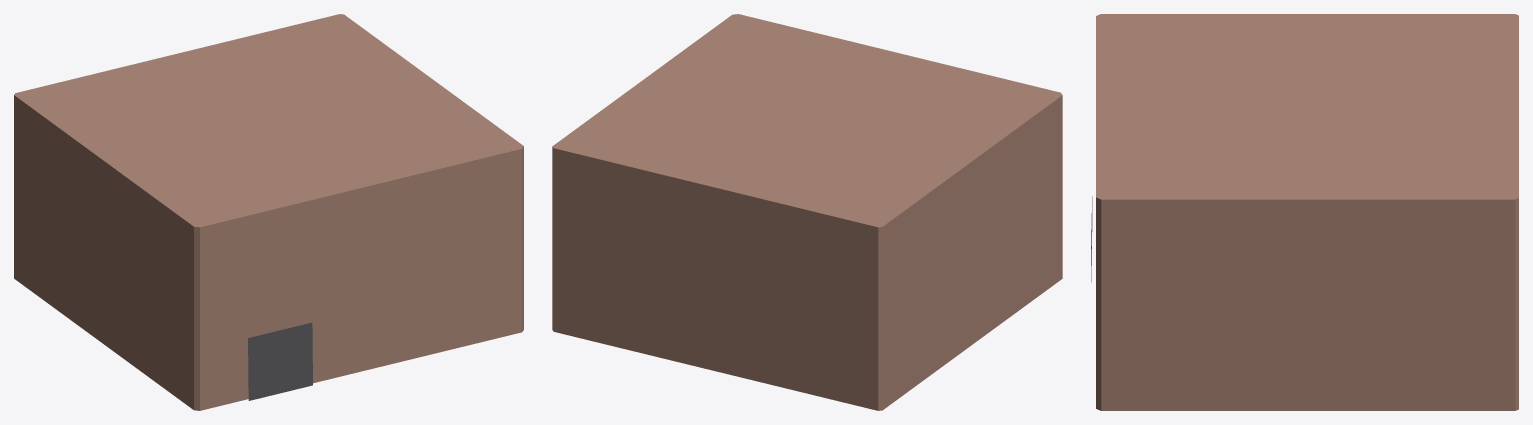
File: loin-etape-1.glb
The picture shows the model from 3 angles, left to right: view 1: azimuth 30°, elevation 25°; view 2: azimuth 150°, elevation 25°; view 3: azimuth 270°, elevation 25°; orthographic projection. The views are drawn at different scales.
Visible parts, largest first — view 1: loin; view 2: loin; view 3: loin.
Part boxes in pixels (x1,y1,x2,y2): loin: (14, 14, 523, 410); loin: (552, 14, 1062, 410); loin: (1091, 14, 1518, 410).
Size of the model in its own units: 0.7811 by 0.415 by 0.7613.
